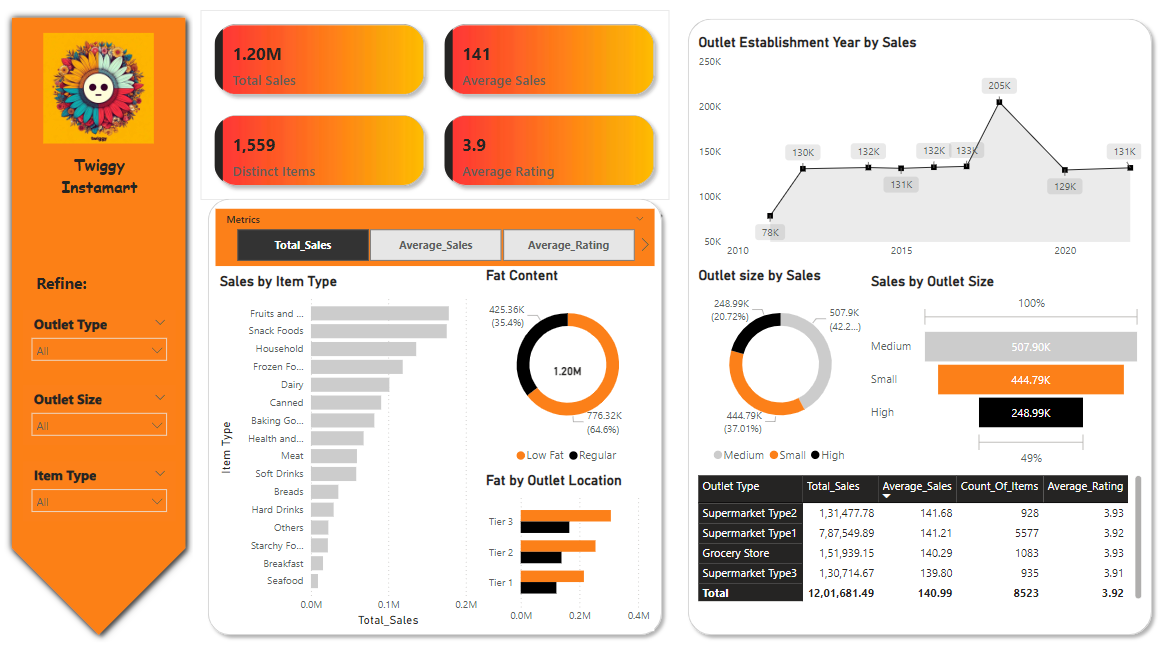

The page's visual inventory and layout, read from the dashboard file:
{"tool":"powerbi","page":{"name":"Page 1","canvas":[1400,800],"ordinal":0},"visuals":[{"type":"shape","box":[13.5,18,226.6,759.4],"z":0},{"type":"cardVisual","fields":{"Data":["Sum(S_I_Data.Sales)","Avg(S_I_Data.Sales)","Count(S_I_Data.Item Identifier)","Avg(S_I_Data.Rating)"]},"box":[249.1,18,562.8,228.1],"z":2000},{"type":"shape","box":[249.1,235.6,562.8,541.8],"z":3000},{"type":"donutChart","title":"Fat Content","fields":{"Y":["S_I_Data.Total_Sales"],"Category":["S_I_Data.Item Fat Content"]},"box":[586.8,325.7,207.1,246.1],"z":4000},{"type":"slicer","fields":{"Values":["Metrics.Metrics"]},"box":[267.2,256.6,526.8,69],"z":5000},{"type":"cardVisual","fields":{"Data":["S_I_Data.Total_Sales"]},"box":[660.4,424.7,58.5,46.5],"z":6000},{"type":"clusteredBarChart","title":"Fat by Outlet Location","fields":{"Y":["S_I_Data.Total_Sales"],"Category":["S_I_Data.Outlet Location Type"],"Series":["S_I_Data.Item Fat Content"]},"box":[586.8,571.8,207.1,192.1],"z":7000},{"type":"barChart","title":"Sales by Item Type","fields":{"Y":["S_I_Data.Total_Sales"],"Category":["S_I_Data.Item Type"]},"box":[267.2,333.2,319.7,430.7],"z":8000},{"type":"shape","box":[825.5,19.5,574.8,757.9],"z":9000},{"type":"lineChart","title":"Outlet Establishment Year by Sales","fields":{"Y":["S_I_Data.Total_Sales"],"Category":["S_I_Data.Outlet Establishment Year"]},"box":[842,46.5,541.8,279.2],"z":10000},{"type":"donutChart","title":"Outlet size by Sales","fields":{"Y":["S_I_Data.Total_Sales"],"Category":["S_I_Data.Outlet Size"]},"box":[841.8,326.2,207.7,245.6],"z":11000},{"type":"funnel","title":"Sales by Outlet Size","fields":{"Y":["S_I_Data.Total_Sales"],"Category":["S_I_Data.Outlet Size"]},"box":[1049.5,333.5,334.8,238.2],"z":12000},{"type":"pivotTable","fields":{"Rows":["S_I_Data.Outlet Type"],"Values":["S_I_Data.Total_Sales","S_I_Data.Average_Sales","S_I_Data.Count_Of_Items","S_I_Data.Average_Rating"]},"box":[841.8,571.8,542.5,161.3],"z":13000},{"type":"slicer","fields":{"Values":["S_I_Data.Outlet Type"]},"box":[36,378.5,183.1,72],"z":14000},{"type":"slicer","fields":{"Values":["S_I_Data.Outlet Size"]},"box":[36,468.6,183.1,72],"z":15000},{"type":"slicer","fields":{"Values":["S_I_Data.Item Type"]},"box":[36,560.1,183.1,72],"z":16000},{"type":"textbox","box":[46.5,329,81,39],"z":17000},{"type":"image","box":[55.5,37.5,142.6,148.6],"z":17001},{"type":"textbox","box":[72,186.1,111.1,70.5],"z":17002}]}

Visuals, with their boxes in screenshot pixels (x1, y1, x2, y2), scaled from the page's 1400x800 canvas onto the 1158x656 screenshot:
shape: bbox=[11, 15, 199, 637]
cardVisual - Sum(S_I_Data.Sales) x Avg(S_I_Data.Sales): bbox=[206, 15, 672, 202]
shape: bbox=[206, 193, 672, 637]
"Fat Content" donutChart: bbox=[485, 267, 657, 469]
slicer - Metrics.Metrics: bbox=[221, 210, 657, 267]
cardVisual - S_I_Data.Total_Sales: bbox=[546, 348, 595, 386]
"Fat by Outlet Location" clusteredBarChart: bbox=[485, 469, 657, 626]
"Sales by Item Type" barChart: bbox=[221, 273, 485, 626]
shape: bbox=[683, 16, 1157, 637]
"Outlet Establishment Year by Sales" lineChart: bbox=[696, 38, 1145, 267]
"Outlet size by Sales" donutChart: bbox=[696, 267, 868, 469]
"Sales by Outlet Size" funnel: bbox=[868, 273, 1145, 469]
pivotTable - S_I_Data.Outlet Type x S_I_Data.Total_Sales: bbox=[696, 469, 1145, 601]
slicer - S_I_Data.Outlet Type: bbox=[30, 310, 181, 369]
slicer - S_I_Data.Outlet Size: bbox=[30, 384, 181, 443]
slicer - S_I_Data.Item Type: bbox=[30, 459, 181, 518]
textbox: bbox=[38, 270, 105, 302]
image: bbox=[46, 31, 164, 153]
textbox: bbox=[60, 153, 151, 210]
